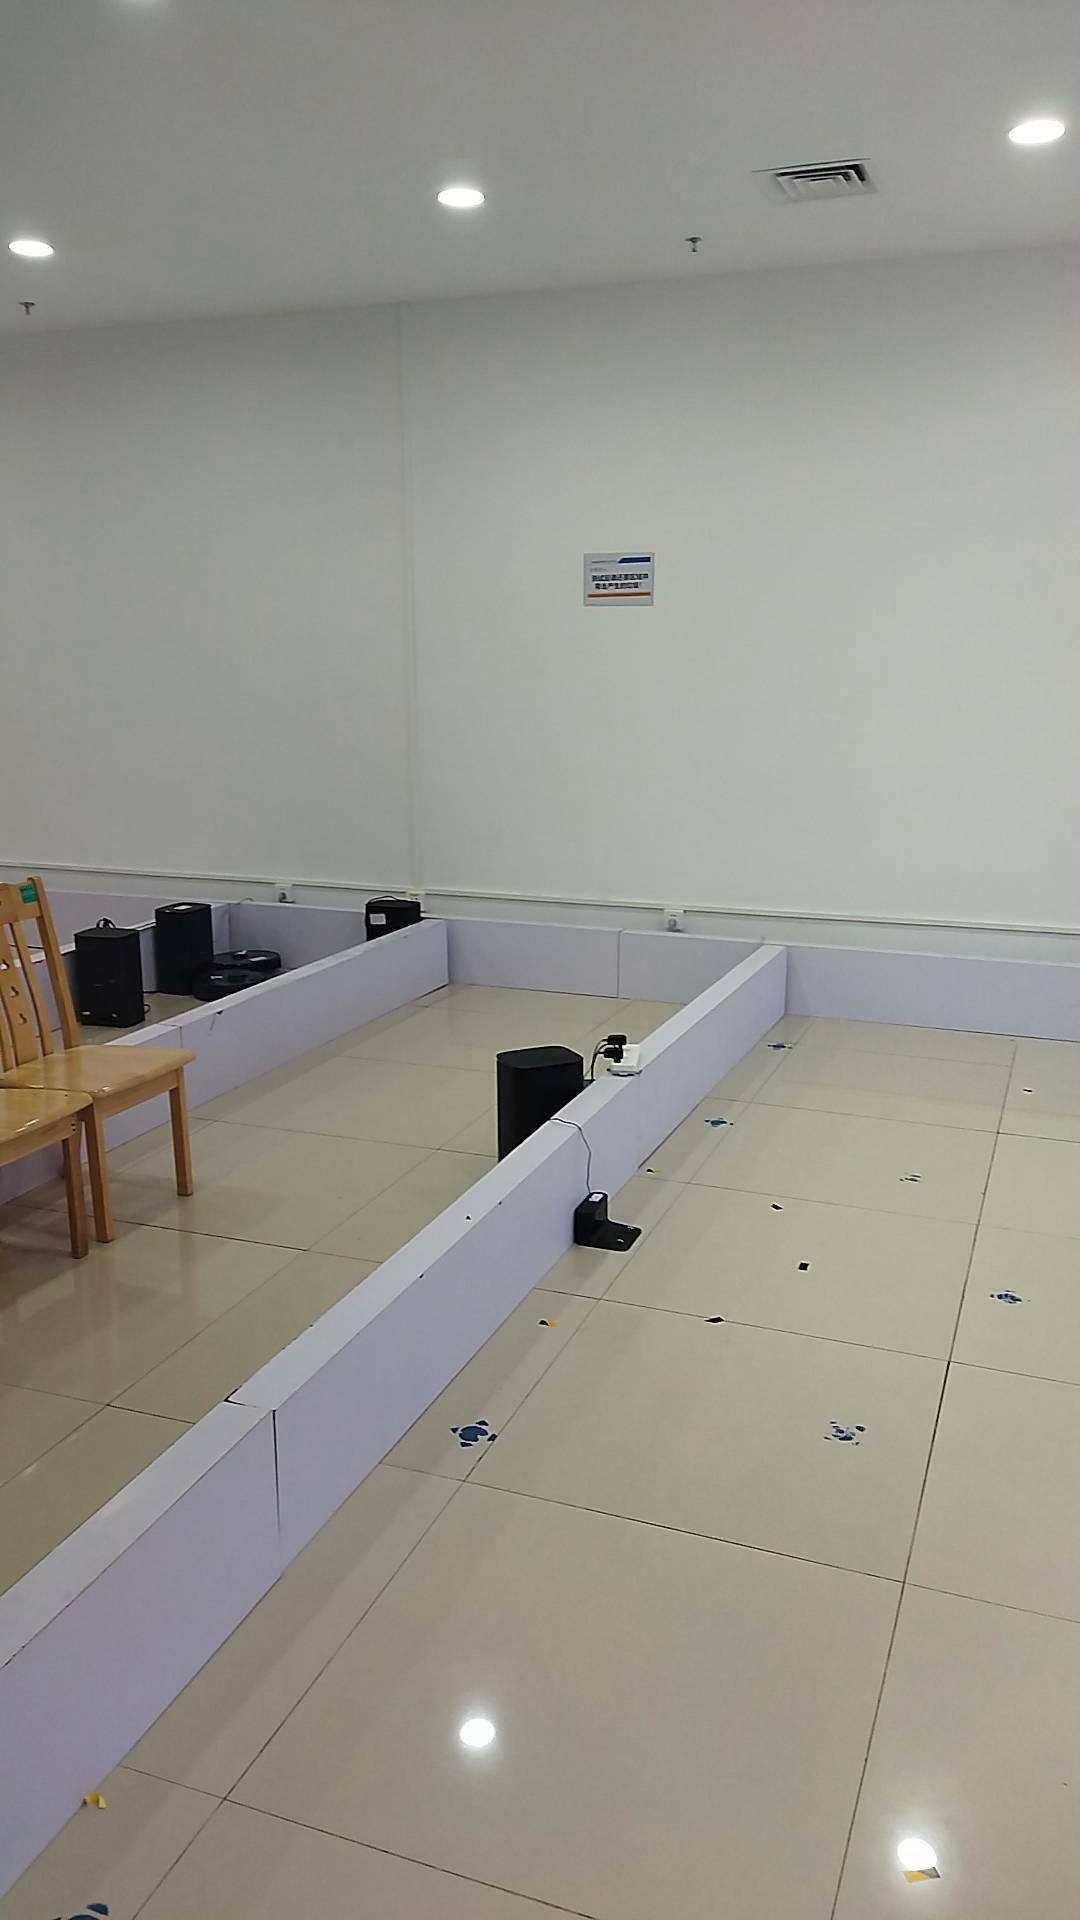dust collecting barrel: (498, 1043, 584, 1160), (75, 928, 146, 1025), (156, 905, 214, 1000)
recharge seat: (574, 1189, 644, 1251)
